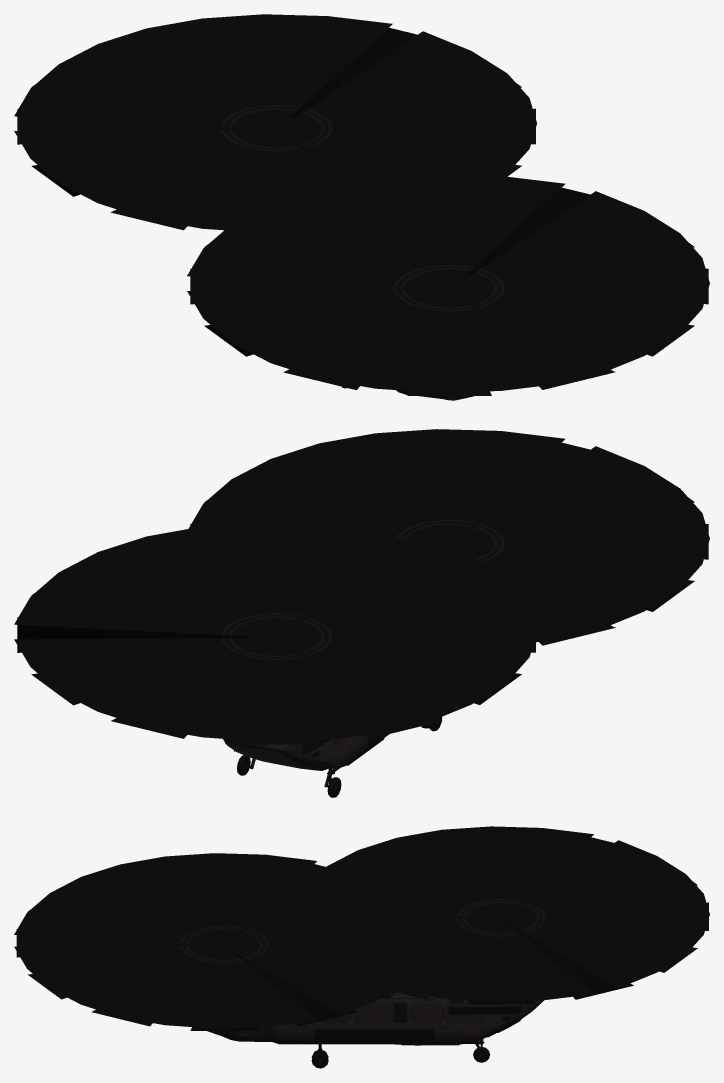
File: (Warface) Ch-47.fbx
3 renders of one model, top to bottom at view 1: azimuth 30°, elevation 25°; view 2: azimuth 150°, elevation 25°; view 3: azimuth 270°, elevation 25°, orthographic. The views are drawn at different scales.
Visible parts, largest first — view 1: Mesh_0169, Mesh_0169.001; view 2: Mesh_0169, Mesh_0169.001, Mesh_0679, Mesh_0308, Mesh_0306; view 3: Mesh_0169, Mesh_0169.001, Mesh_0679, Mesh_0332, Mesh_0308, Mesh_0122.
Part boxes in pixels (bbox=[...]): Mesh_0169: bbox=[14, 14, 536, 235]; Mesh_0169.001: bbox=[187, 176, 709, 395]; Mesh_0169: bbox=[14, 522, 536, 744]; Mesh_0169.001: bbox=[188, 429, 709, 645]; Mesh_0679: bbox=[231, 734, 389, 768]; Mesh_0308: bbox=[224, 717, 442, 797]; Mesh_0306: bbox=[229, 743, 328, 769]; Mesh_0169: bbox=[291, 826, 709, 1004]; Mesh_0169.001: bbox=[14, 853, 396, 1030]; Mesh_0679: bbox=[207, 992, 541, 1044]; Mesh_0332: bbox=[225, 998, 521, 1045]; Mesh_0308: bbox=[222, 998, 542, 1068]; Mesh_0122: bbox=[321, 1002, 441, 1022].
Size of what is drawn, in the model's own units: 34224 by 12423 by 57369.
